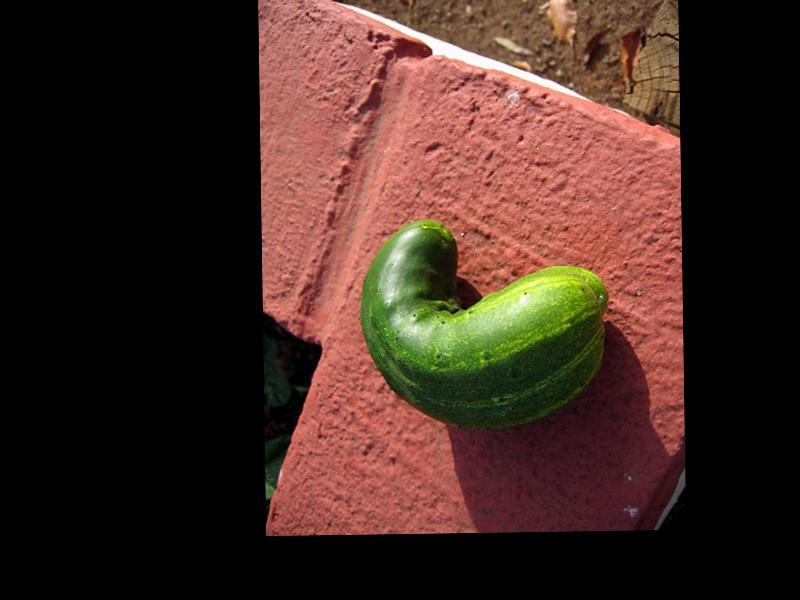Cucumber: (359, 214, 608, 430)
